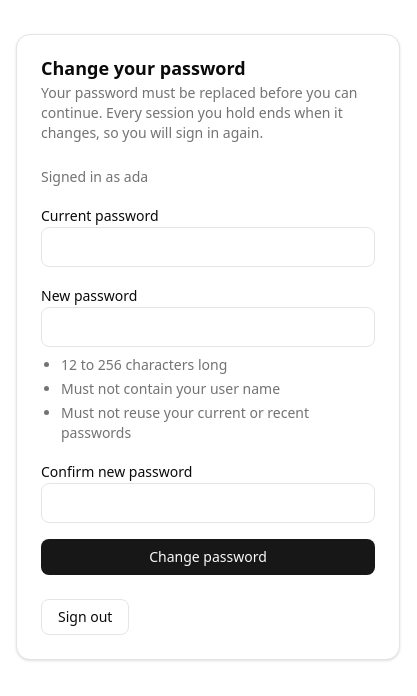
Test: ChangePassword › shows a 401 as a wrong current password, clears the fields and echoes neither value
Type "Current-Value-4f81" into the password field labelled "Current password".
click(208, 247); type("Current-Value-4f81")  # box [41, 227, 375, 267]
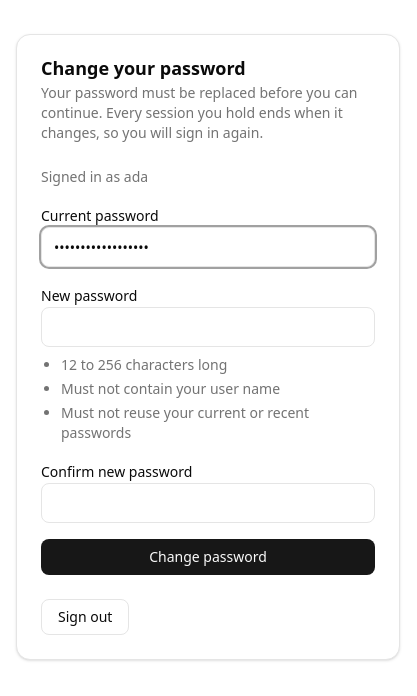
Type "Next-Value-9c2e-long" into the password field labelled "New password".
click(208, 327); type("Next-Value-9c2e-long")  # box [41, 307, 375, 347]
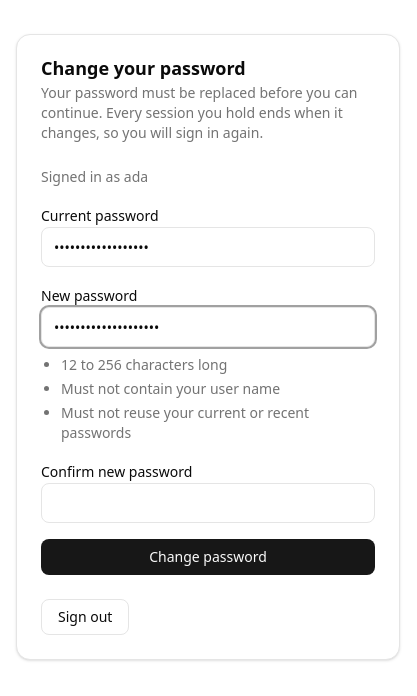
Type "Next-Value-9c2e-long" into the password field labelled "Confirm new password".
click(208, 503); type("Next-Value-9c2e-long")  # box [41, 483, 375, 523]
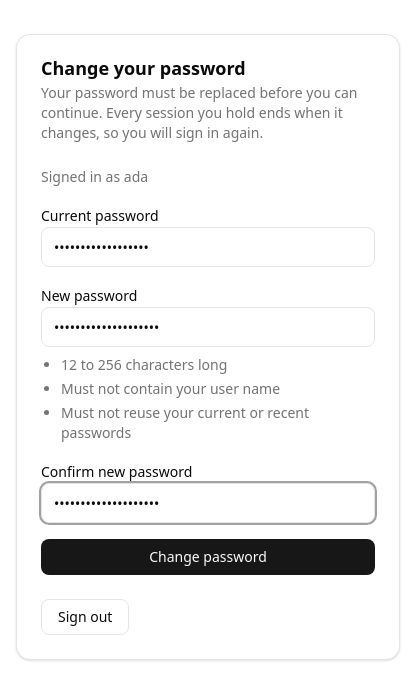
Click the button "Change password".
click(208, 557)  # box [41, 539, 375, 575]
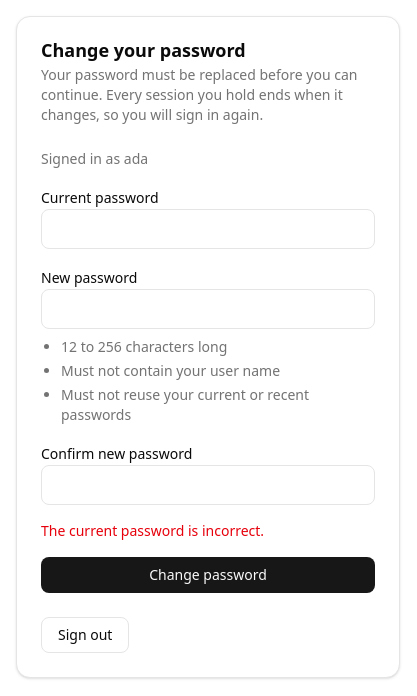
Expected: the message reads "The current password is incorrect.", [41, 521, 264, 540]
Expected: the password field labelled "Current password" is empty, [41, 209, 375, 249]
Expected: the password field labelled "New password" is empty, [41, 289, 375, 329]
